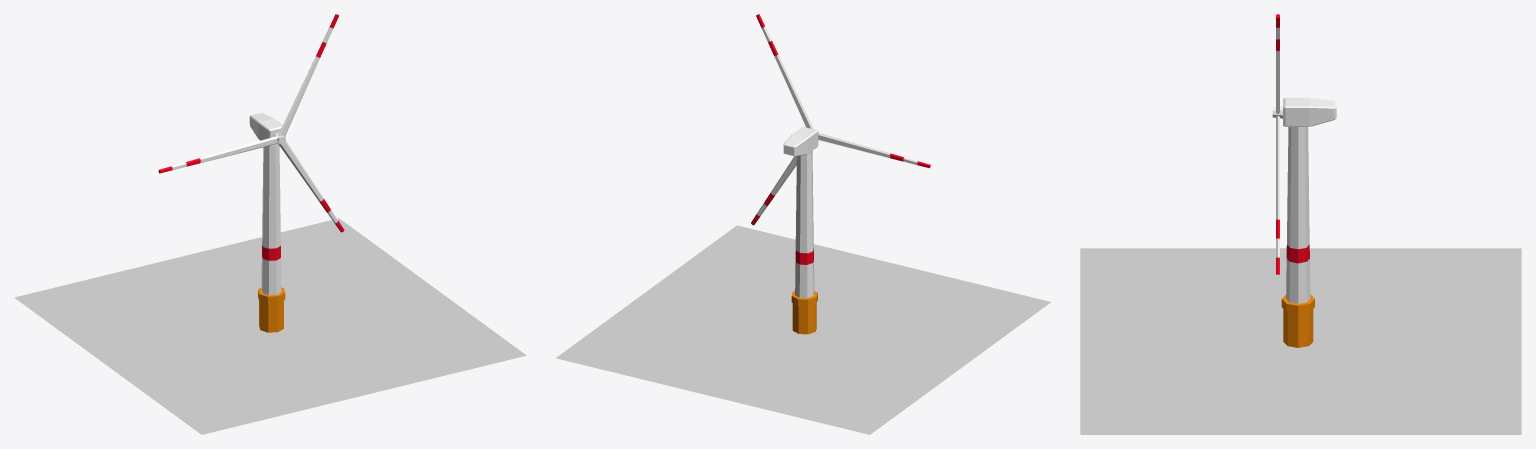
The model's file is Single Turbine.fbx.
3 renders of one model, left to right at view 1: azimuth 30°, elevation 25°; view 2: azimuth 150°, elevation 25°; view 3: azimuth 270°, elevation 25°, orthographic. The views are drawn at different scales.
Visible parts, largest first — view 1: Plane.006, Cube.017; view 2: Plane.006, Cube.017; view 3: Plane.006, Cube.017.
Boxes of the visible parts, box(x1,y1,x2,y2) form: Plane.006: box(14, 218, 526, 434); Cube.017: box(158, 14, 344, 332); Plane.006: box(556, 225, 1050, 434); Cube.017: box(751, 14, 930, 334); Plane.006: box(1080, 248, 1521, 434); Cube.017: box(1272, 14, 1336, 347).
Bounding box in the file's own units: 200 × 186 × 200.
